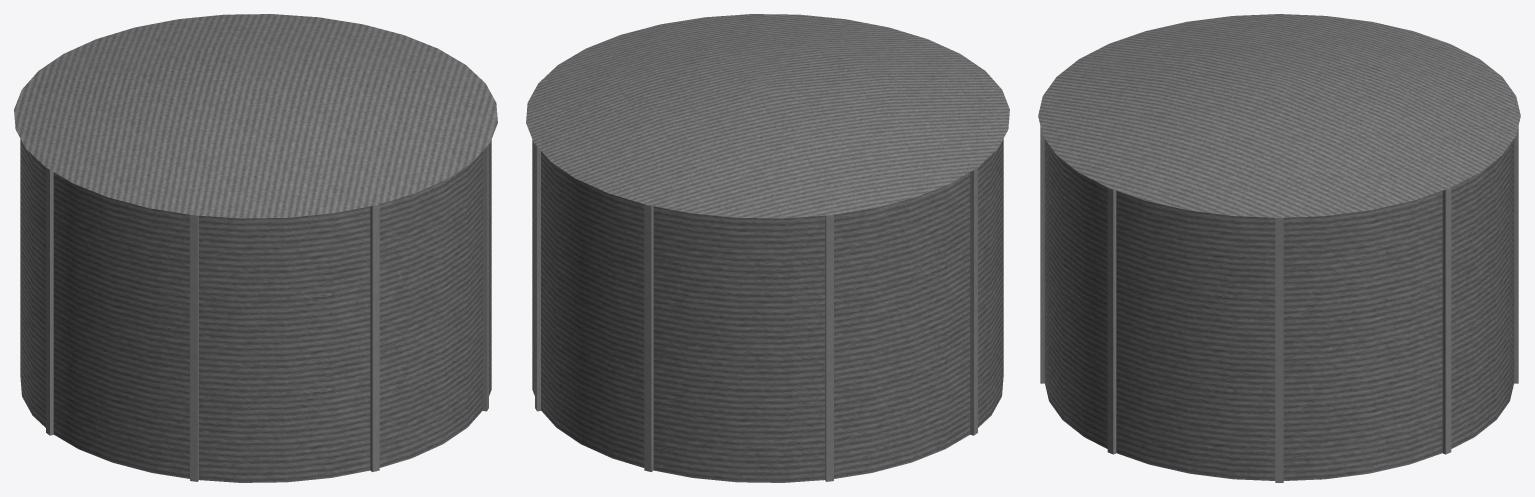
The model's file is water-tank-corrigated-8x3-cbj_LOD01.gltf.
The picture shows the model from 3 angles, left to right: view 1: azimuth 30°, elevation 25°; view 2: azimuth 150°, elevation 25°; view 3: azimuth 270°, elevation 25°; orthographic projection.
Parts seen in each view (by area): view 1: tank01; view 2: tank01; view 3: tank01.
Boxes of the visible parts, x1,y1,x2,y2 form: tank01: [14, 14, 497, 482]; tank01: [526, 14, 1009, 482]; tank01: [1038, 14, 1520, 482].
Bounding box in the file's own units: 8.22 × 5.54 × 8.22.
